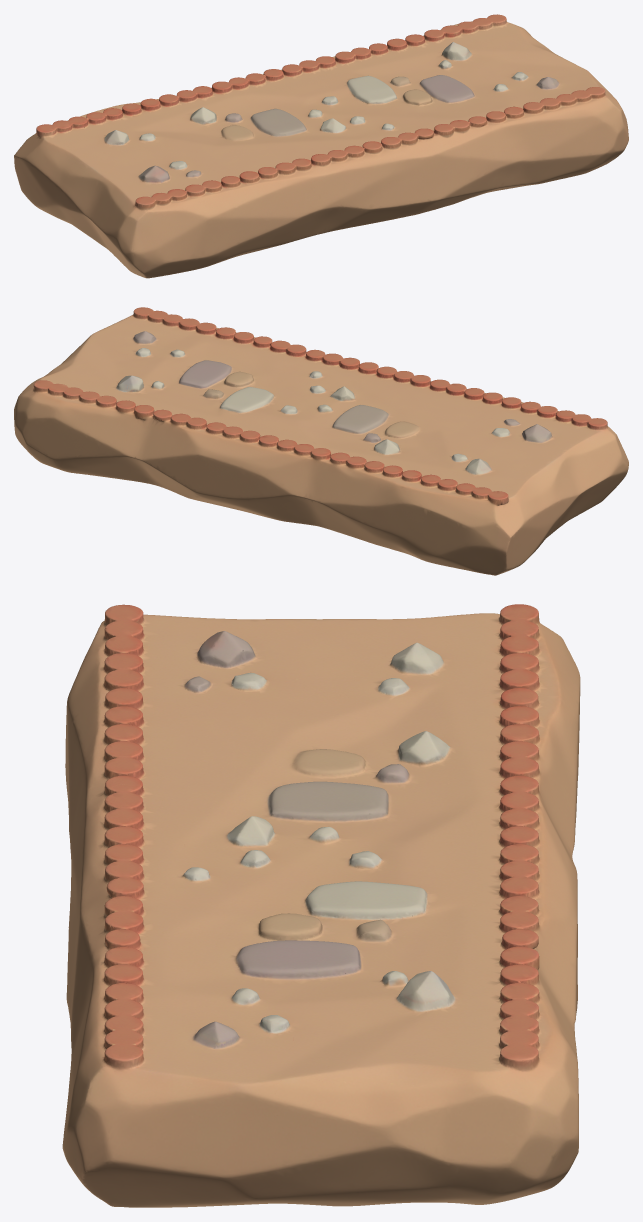
The model's file is CAMINO (1).fbx.
The picture shows the model from 3 angles, top to bottom: view 1: azimuth 30°, elevation 25°; view 2: azimuth 150°, elevation 25°; view 3: azimuth 270°, elevation 25°; orthographic projection. The views are drawn at different scales.
Visible parts, largest first — view 1: Mesh_0; view 2: Mesh_0; view 3: Mesh_0.
Part boxes in pixels (x1,y1,x2,y2): Mesh_0: (14, 14, 628, 278); Mesh_0: (14, 307, 628, 575); Mesh_0: (62, 604, 580, 1207).
Size of the model in its own units: 190 by 29.13 by 83.79.
1 material, 1 textured.
